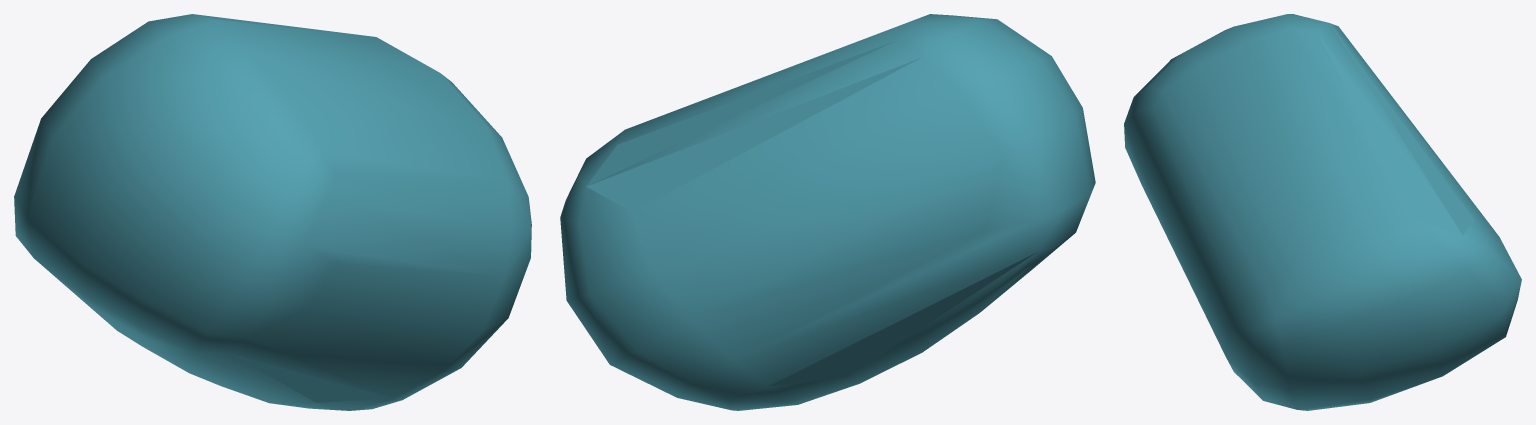
Rendered from COL_Alpha_Surface_035_convex_hull.dae.
The picture shows the model from 3 angles, left to right: view 1: azimuth 30°, elevation 25°; view 2: azimuth 150°, elevation 25°; view 3: azimuth 270°, elevation 25°; orthographic projection. The views are drawn at different scales.
Visible parts, largest first — view 1: COL_Alpha_Surface_035_convex_hull; view 2: COL_Alpha_Surface_035_convex_hull; view 3: COL_Alpha_Surface_035_convex_hull.
Boxes of the visible parts, x1=… form: COL_Alpha_Surface_035_convex_hull: x1=14, y1=14, x2=531, y2=410; COL_Alpha_Surface_035_convex_hull: x1=560, y1=14, x2=1095, y2=410; COL_Alpha_Surface_035_convex_hull: x1=1124, y1=14, x2=1521, y2=410.
Size of the model in its own units: 4.26 by 3.96 by 3.48.
